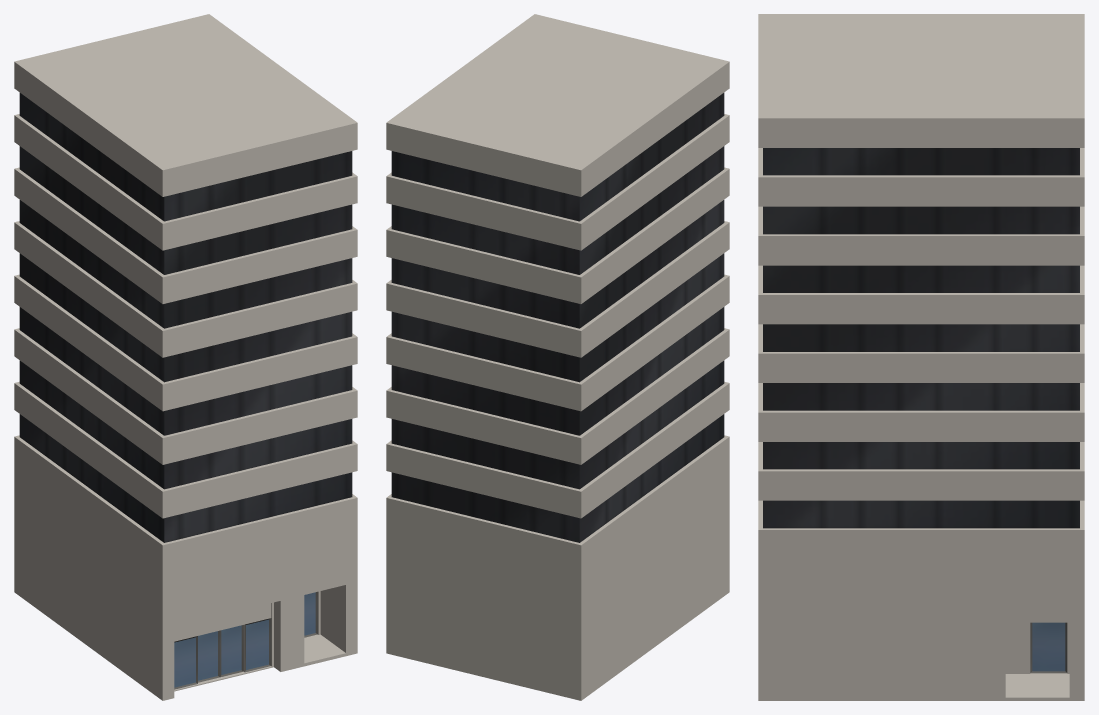
The model's file is Bld_Building_J.fbx.
3 renders of one model, left to right at view 1: azimuth 30°, elevation 25°; view 2: azimuth 150°, elevation 25°; view 3: azimuth 270°, elevation 25°, orthographic. The views are drawn at different scales.
Visible parts, largest first — view 1: Bld_Building_J; view 2: Bld_Building_J; view 3: Bld_Building_J.
Part boxes in pixels (box(x1,y1,x2,y2)): Bld_Building_J: box(14, 14, 357, 700); Bld_Building_J: box(386, 14, 729, 700); Bld_Building_J: box(758, 14, 1084, 700).
Bounding box in the file's own units: 1000 × 2600 × 1320.
